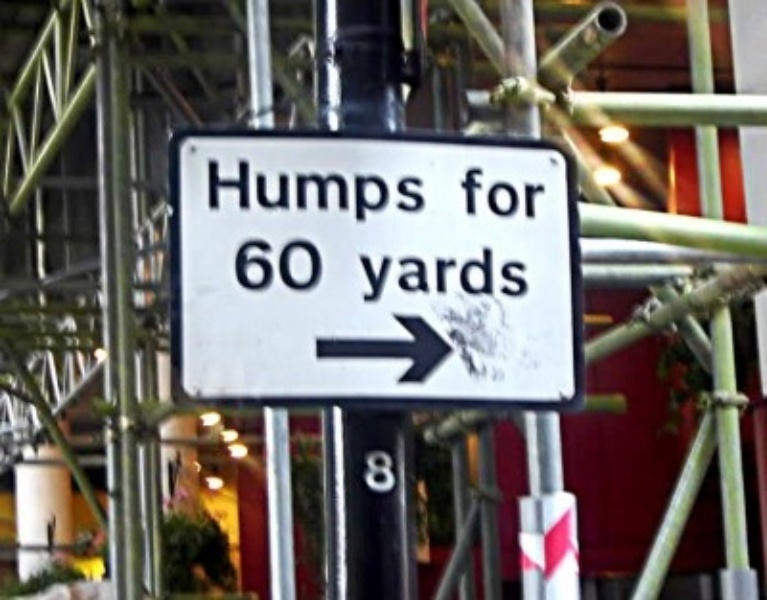text: (209, 158, 224, 229), (225, 158, 240, 229), (241, 158, 256, 229), (257, 158, 272, 229), (273, 158, 288, 229), (289, 158, 304, 229), (305, 158, 320, 229), (321, 158, 336, 229), (337, 158, 352, 229), (353, 158, 368, 229), (369, 158, 384, 229), (385, 158, 400, 229), (401, 158, 416, 229), (369, 242, 384, 305), (385, 242, 400, 305), (401, 242, 416, 305), (417, 242, 432, 305), (433, 242, 448, 305), (449, 242, 464, 305), (465, 242, 480, 305), (481, 242, 496, 305), (497, 242, 512, 305), (513, 242, 528, 305), (465, 165, 480, 219), (481, 165, 496, 219), (497, 165, 512, 219), (513, 165, 528, 219), (529, 165, 544, 219), (241, 238, 256, 292), (257, 238, 272, 292), (273, 238, 288, 292), (289, 238, 304, 292), (305, 238, 320, 292), (369, 449, 384, 495), (417, 158, 426, 229), (385, 449, 396, 495), (361, 242, 368, 305), (234, 238, 240, 292), (529, 242, 534, 305), (321, 238, 325, 292), (461, 165, 464, 219), (365, 449, 368, 495), (545, 165, 547, 219)
